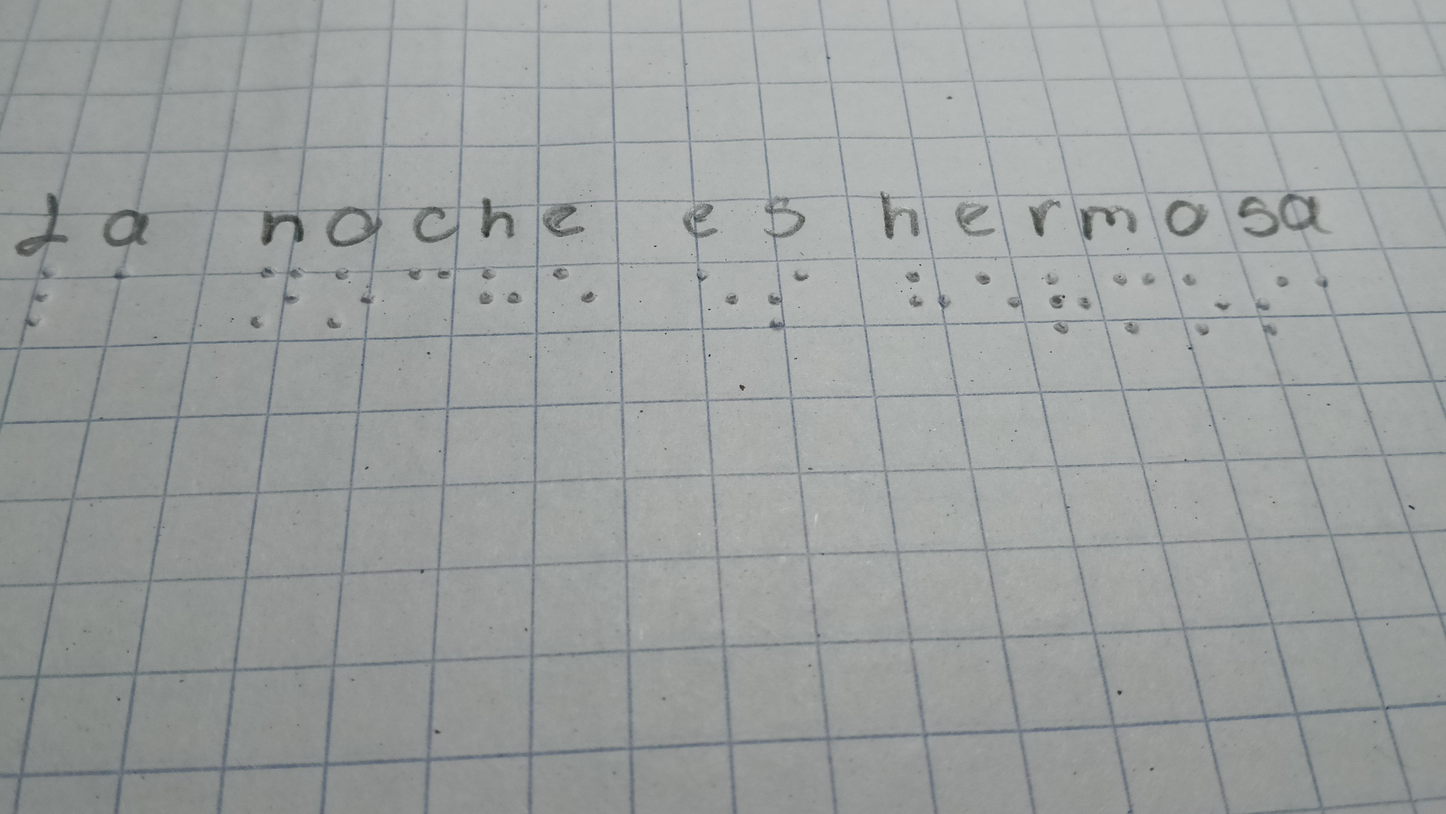a: (94, 255, 144, 300), (1302, 261, 1349, 305)
c: (399, 261, 461, 300)
e: (964, 262, 1031, 326), (542, 262, 611, 321), (684, 257, 744, 319)
h: (895, 261, 960, 328), (475, 255, 526, 317)
l: (16, 255, 60, 337)
m: (1104, 264, 1162, 339)
n: (239, 262, 310, 331)
o: (1171, 264, 1235, 344), (323, 261, 383, 333)
r: (1038, 261, 1097, 340)
s: (755, 262, 815, 337), (1248, 262, 1299, 346)
